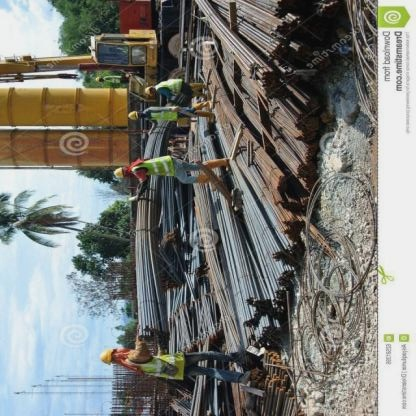vest: (120, 348, 189, 382), (128, 151, 179, 180), (143, 102, 181, 124), (156, 76, 184, 96), (101, 74, 122, 85)
yellow: (109, 166, 128, 180), (126, 107, 140, 120), (141, 84, 154, 96), (93, 74, 101, 82)
